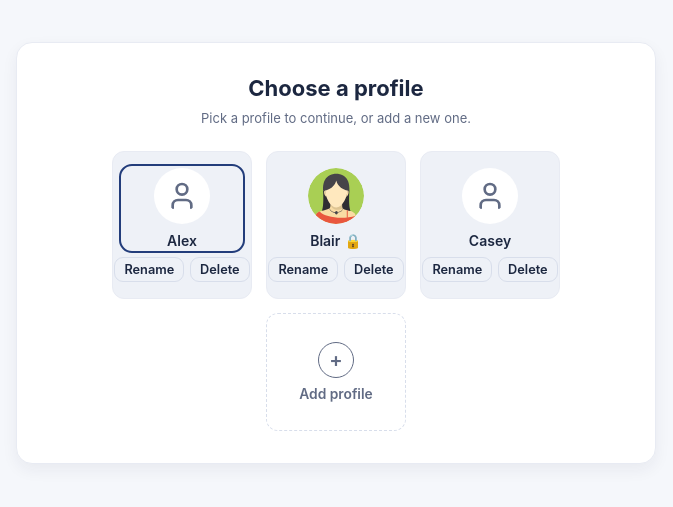
Scenario: ProfileSelector › shows the error inline and stays on the selector when selection fails
The image size is (673, 507).
Step 1. Click the button "Alex" → click(182, 208), box [123,168,241,249]
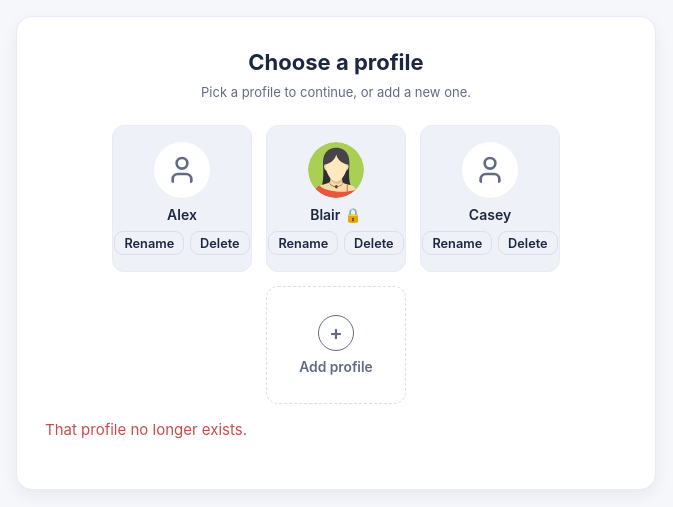
Expected: the message "That profile no longer exists." is shown, [45,420,247,439]
